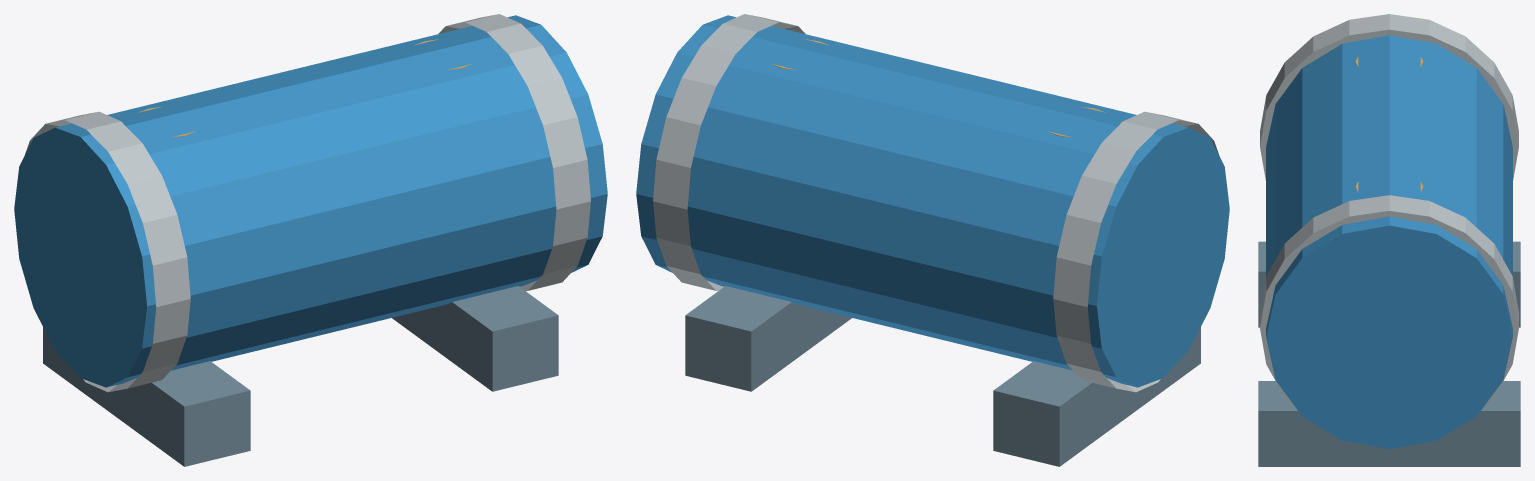
The model's file is 06_L69_HighPressureLiquidReceiver.glb.
3 views of the same model, side by side, from view 1: azimuth 30°, elevation 25°; view 2: azimuth 150°, elevation 25°; view 3: azimuth 270°, elevation 25° (orthographic). The views are drawn at different scales.
Visible parts, largest first — view 1: HighPressureLiquidReceiver_Part_000, HighPressureLiquidReceiver_Part_003, HighPressureLiquidReceiver_Part_004, HighPressureLiquidReceiver_Part_001, HighPressureLiquidReceiver_Part_002; view 2: HighPressureLiquidReceiver_Part_000, HighPressureLiquidReceiver_Part_003, HighPressureLiquidReceiver_Part_004, HighPressureLiquidReceiver_Part_001, HighPressureLiquidReceiver_Part_002; view 3: HighPressureLiquidReceiver_Part_000, HighPressureLiquidReceiver_Part_004, HighPressureLiquidReceiver_Part_002, HighPressureLiquidReceiver_Part_001, HighPressureLiquidReceiver_Part_003.
Part boxes in pixels (bbox=[...]): HighPressureLiquidReceiver_Part_000: bbox=[14, 15, 607, 387]; HighPressureLiquidReceiver_Part_003: bbox=[43, 327, 250, 466]; HighPressureLiquidReceiver_Part_004: bbox=[392, 286, 558, 391]; HighPressureLiquidReceiver_Part_001: bbox=[25, 111, 190, 392]; HighPressureLiquidReceiver_Part_002: bbox=[438, 14, 590, 291]; HighPressureLiquidReceiver_Part_000: bbox=[636, 15, 1229, 387]; HighPressureLiquidReceiver_Part_003: bbox=[993, 327, 1200, 466]; HighPressureLiquidReceiver_Part_004: bbox=[685, 286, 851, 391]; HighPressureLiquidReceiver_Part_001: bbox=[1053, 111, 1218, 392]; HighPressureLiquidReceiver_Part_002: bbox=[653, 14, 805, 291]; HighPressureLiquidReceiver_Part_000: bbox=[1266, 35, 1512, 448]; HighPressureLiquidReceiver_Part_004: bbox=[1258, 381, 1520, 466]; HighPressureLiquidReceiver_Part_002: bbox=[1260, 195, 1518, 405]; HighPressureLiquidReceiver_Part_001: bbox=[1260, 14, 1518, 180]; HighPressureLiquidReceiver_Part_003: bbox=[1258, 241, 1520, 327].
Bounding box in the file's own units: 1.6 × 0.97 × 0.85.
